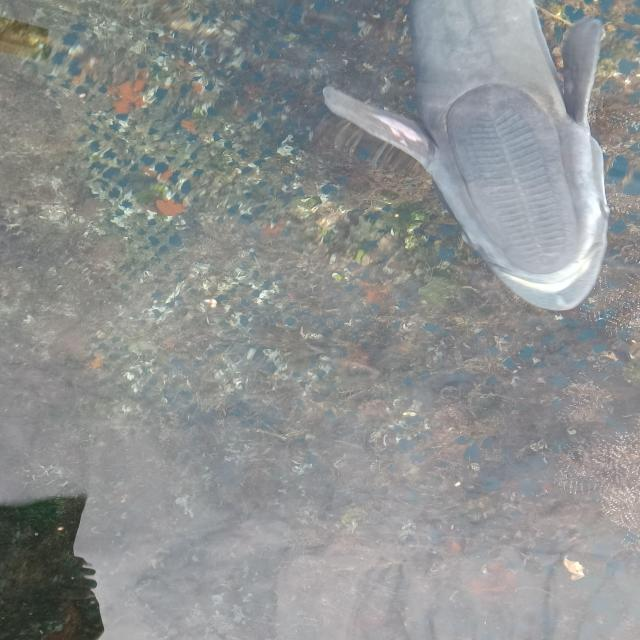ikan: (288, 12, 631, 322)
